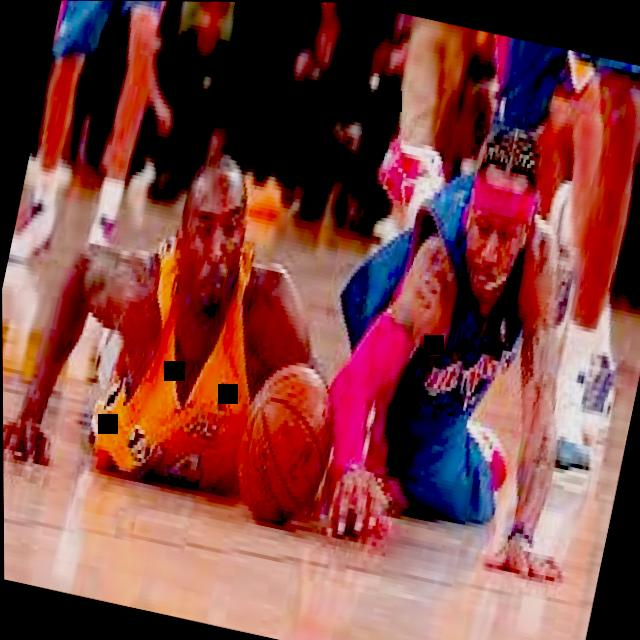Fall-Detected: (282, 73, 640, 589)
